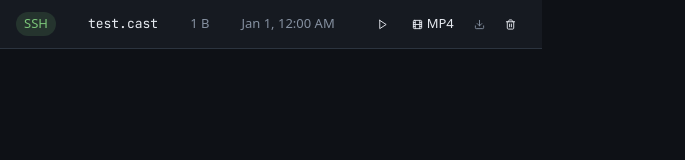
Scenario: shows a conversion failure instead of an MP4 link
Step 1. Click the button with aria-label "Convert test.cast to MP4" → (433, 24), box left=402, top=10, right=464, bottom=38
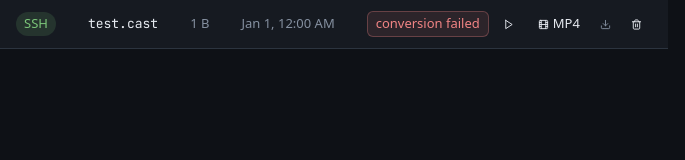
Check: the message reads "conversion failed", box left=376, top=14, right=480, bottom=32
